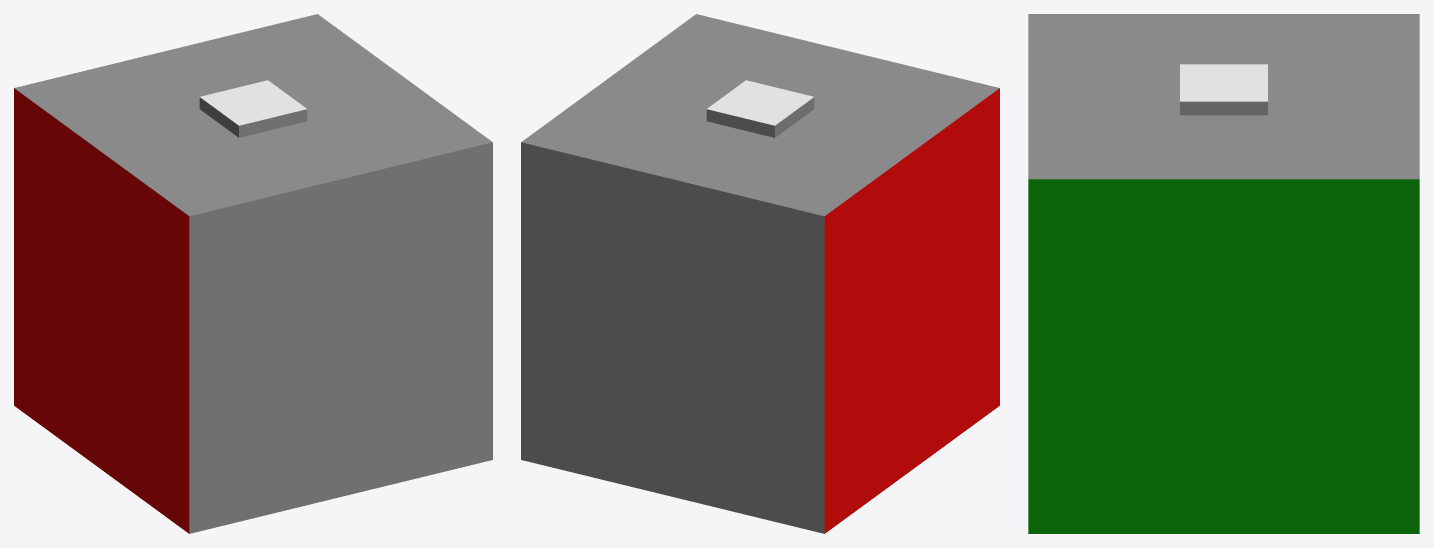
File: GI_Testbox.FBX
3 views of the same model, side by side, from view 1: azimuth 30°, elevation 25°; view 2: azimuth 150°, elevation 25°; view 3: azimuth 270°, elevation 25° (orthographic). The views are drawn at different scales.
Parts seen in each view (by area): view 1: GI_TestBox; view 2: GI_TestBox; view 3: GI_TestBox.
Part boxes in pixels (bbox=[...]): GI_TestBox: bbox=[14, 14, 492, 533]; GI_TestBox: bbox=[521, 14, 999, 533]; GI_TestBox: bbox=[1028, 14, 1419, 533].
Bounding box in the file's own units: 512 × 533 × 512.
